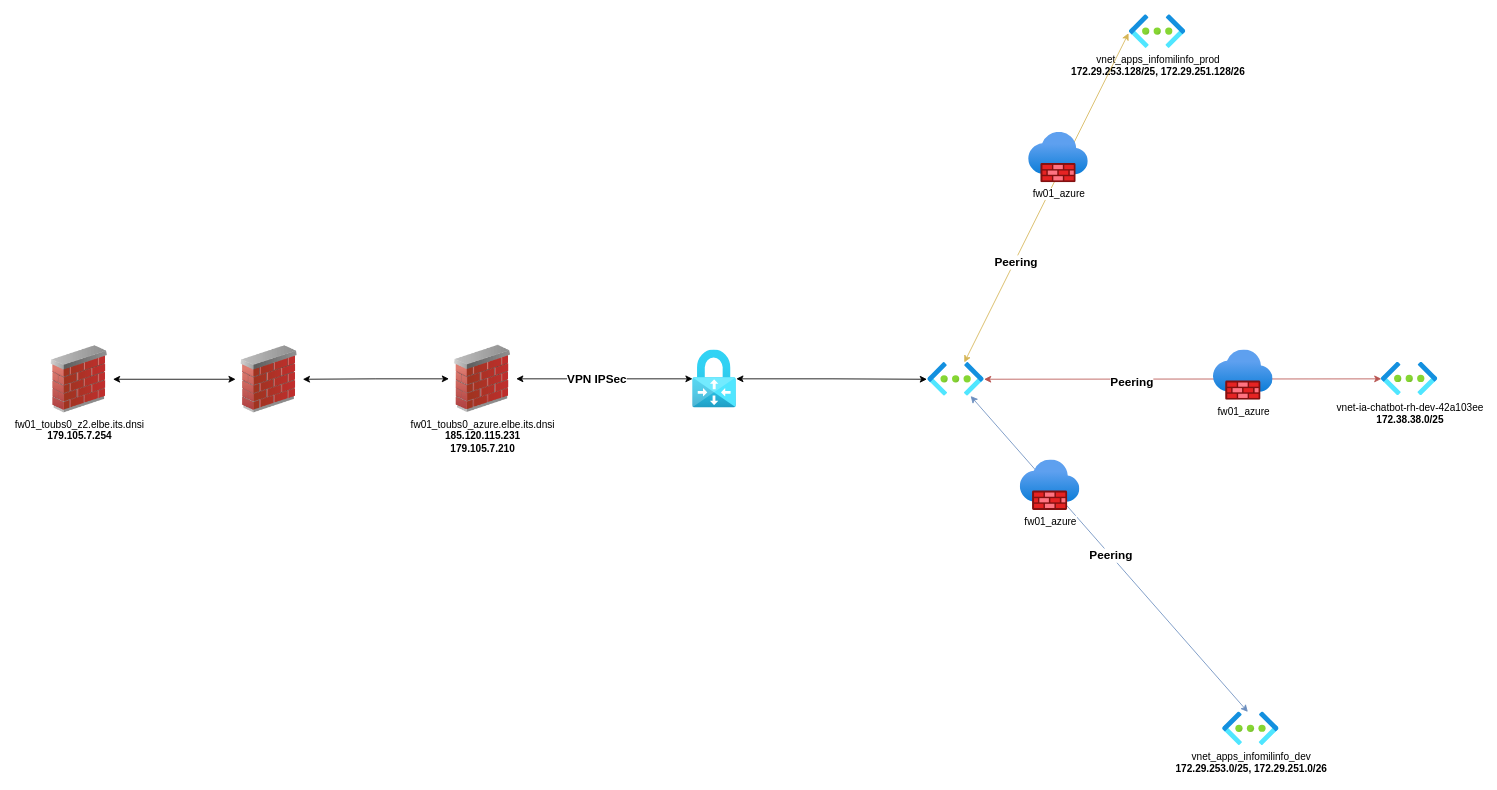
Some shapes in this 1497 by 790 pixel diagram are drawn without their labels. The shapes that lost their labels are listed below. From the top down, each one's centre as x and y in pixels, then its label:
[268,378]: fw02_toubs0_z2_a.elbe.its.dnsi 179.105.6.254
[714,378]: gw01_azure_france_central 4.233.129.52 (PIP) 172.29.252.62 (BGP peer Addr)
[955,379]: vnet_hub 172.29.252.0/24
